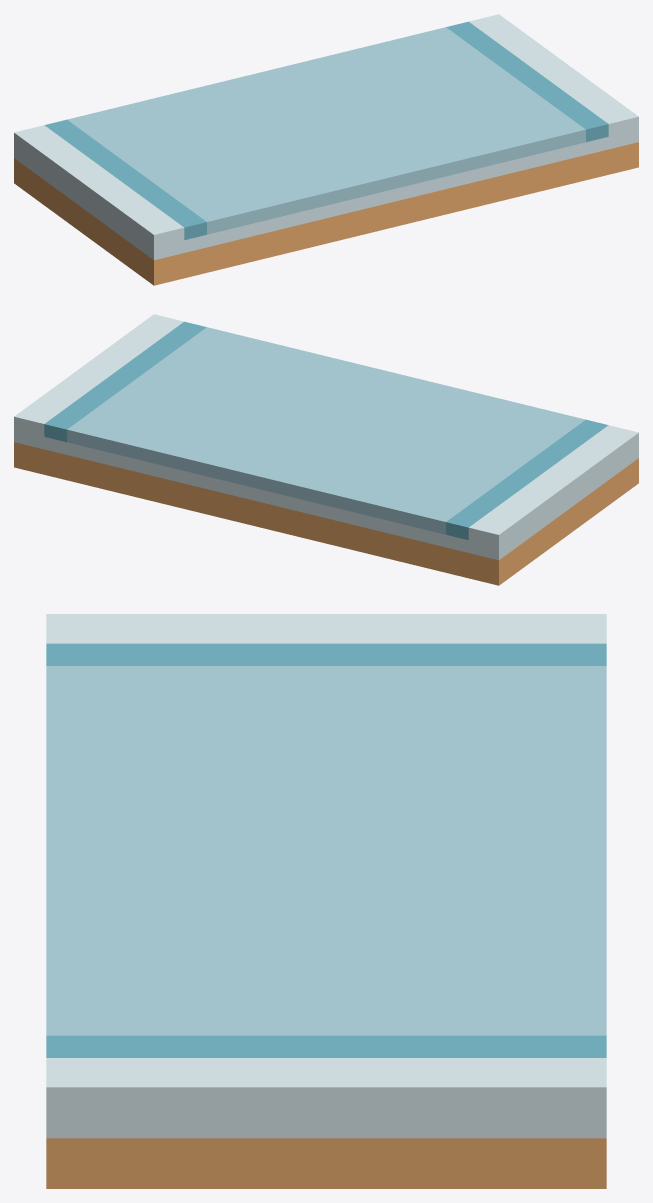
The model's file is snow_tile_wideStraight(+).fbx.
3 views of the same model, one above another, from view 1: azimuth 30°, elevation 25°; view 2: azimuth 150°, elevation 25°; view 3: azimuth 270°, elevation 25° (orthographic). The views are drawn at different scales.
Visible parts, largest first — view 1: Mesh_2; view 2: Mesh_2; view 3: Mesh_2.
Boxes of the visible parts, x1,y1,x2,y2 form: Mesh_2: (14,14,638,285); Mesh_2: (14,314,638,585); Mesh_2: (46,614,606,1188).
Bounding box in the file's own units: 200 × 20 × 100.
